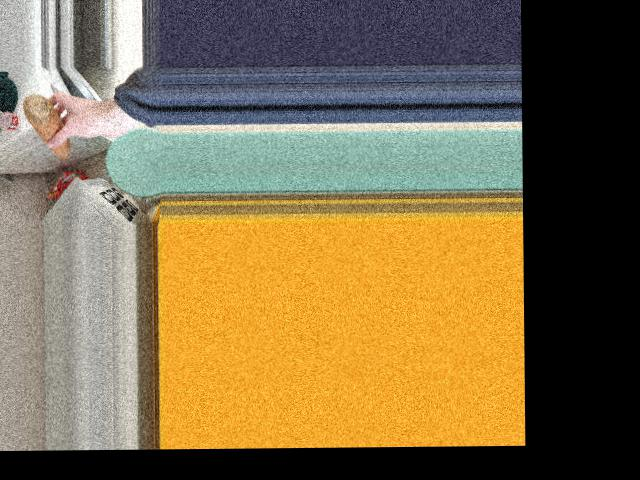sweet_potato: (21, 94, 68, 159)
